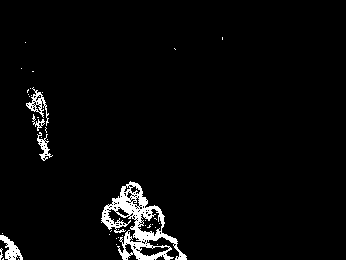person: (127, 207, 188, 260), (99, 177, 145, 245), (26, 88, 54, 161)
